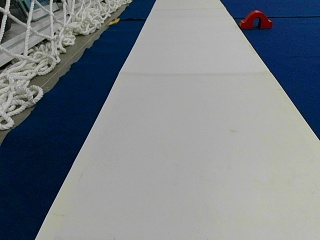bridge: (240, 10, 272, 28)
